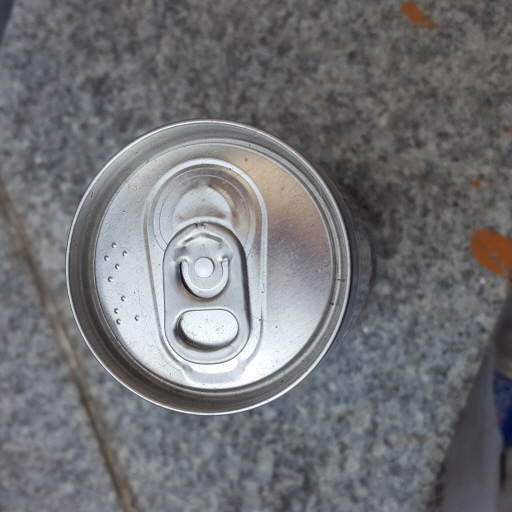Metal_0: (63, 117, 372, 419)
